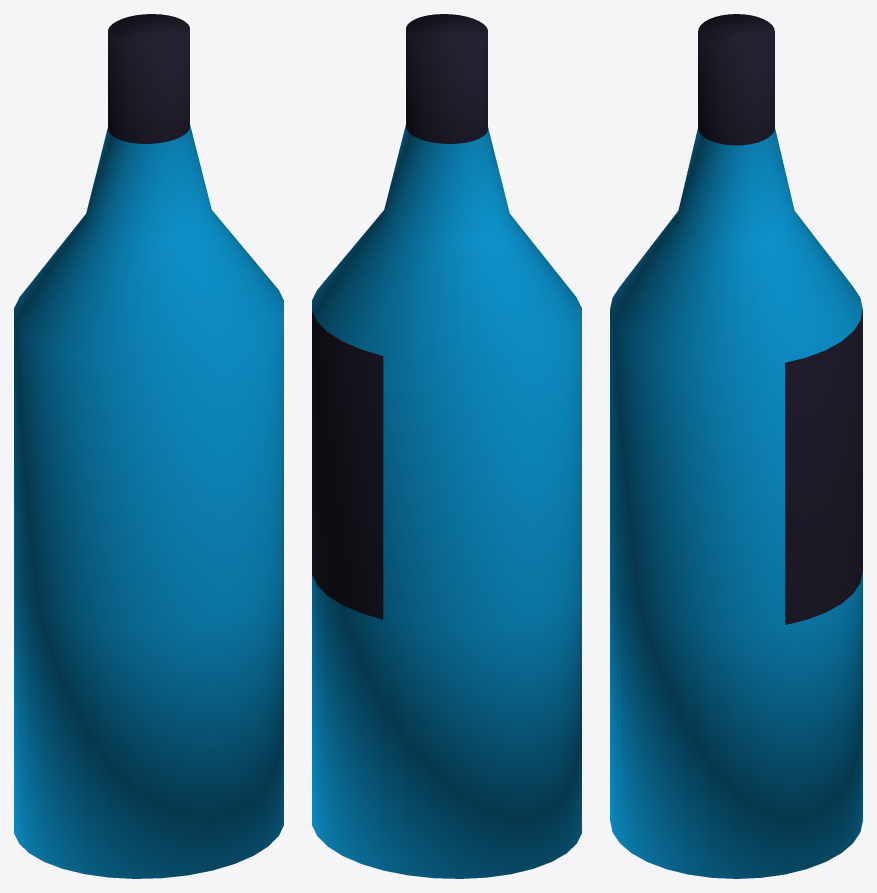
Rendered from GarfunkelDemian_4B_Botella de Vino.fbx.
3 renders of one model, left to right at view 1: azimuth 30°, elevation 25°; view 2: azimuth 150°, elevation 25°; view 3: azimuth 270°, elevation 25°, orthographic.
Visible parts, largest first — view 1: Botella; view 2: Botella; view 3: Botella.
Part boxes in pixels (x1=…): Botella: x1=14, y1=14, x2=283, y2=878; Botella: x1=312, y1=14, x2=581, y2=878; Botella: x1=610, y1=14, x2=862, y2=878.
Size of the model in its own units: 31.98 by 101 by 29.38.
1 material, 1 textured.
